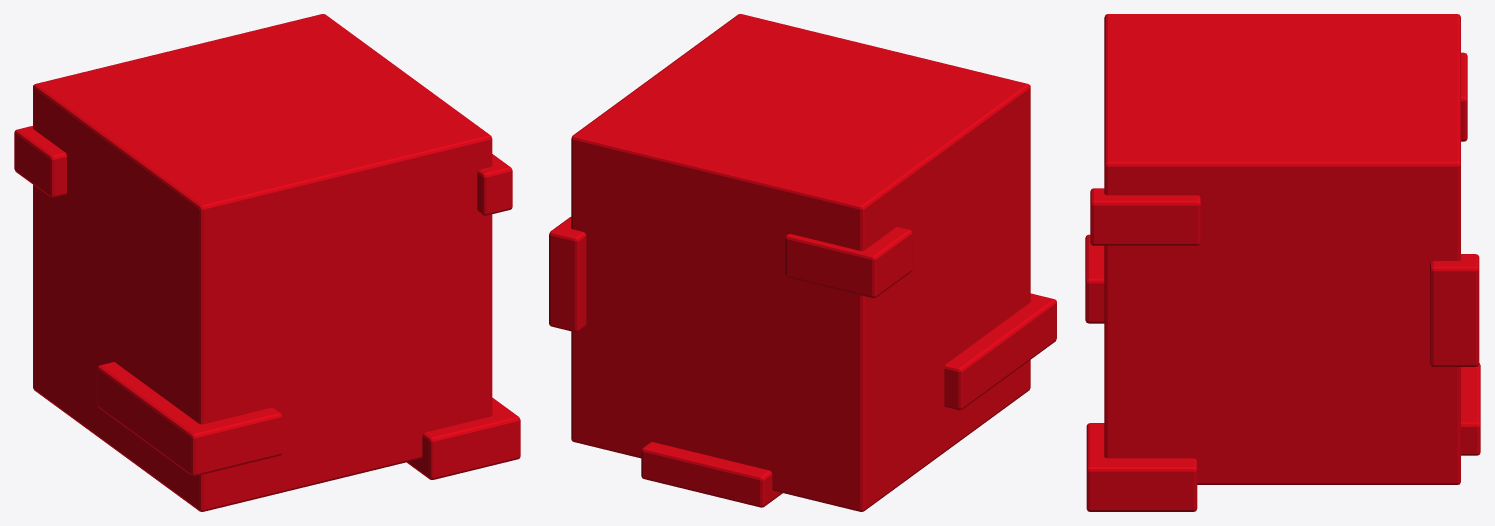
Rendered from CUBES_LVL1.fbx.
3 views of the same model, side by side, from view 1: azimuth 30°, elevation 25°; view 2: azimuth 150°, elevation 25°; view 3: azimuth 270°, elevation 25° (orthographic). The views are drawn at different scales.
Visible parts, largest first — view 1: Cube.042; view 2: Cube.042; view 3: Cube.042.
Part boxes in pixels (x1,y1,x2,y2): Cube.042: (14, 14, 520, 511); Cube.042: (549, 14, 1056, 511); Cube.042: (1085, 14, 1480, 511).
Size of the model in its own units: 225 by 210 by 222.
